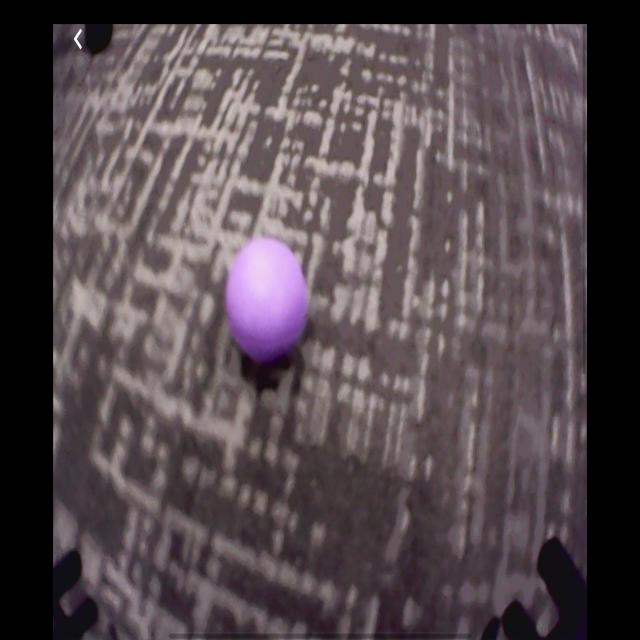ball: (227, 241, 310, 366)
